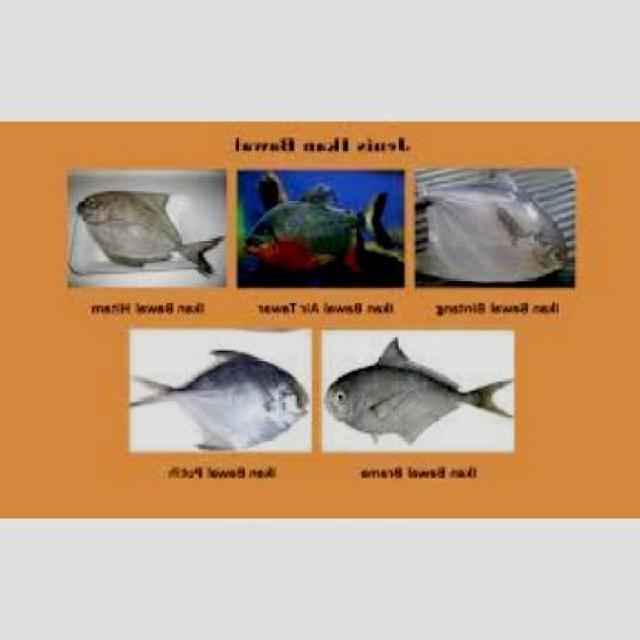ikan-pacu: (324, 346, 510, 442), (143, 344, 309, 450), (422, 173, 570, 282), (76, 184, 216, 270), (240, 194, 391, 268)
